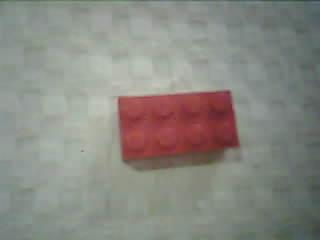lego: (114, 89, 239, 163)
